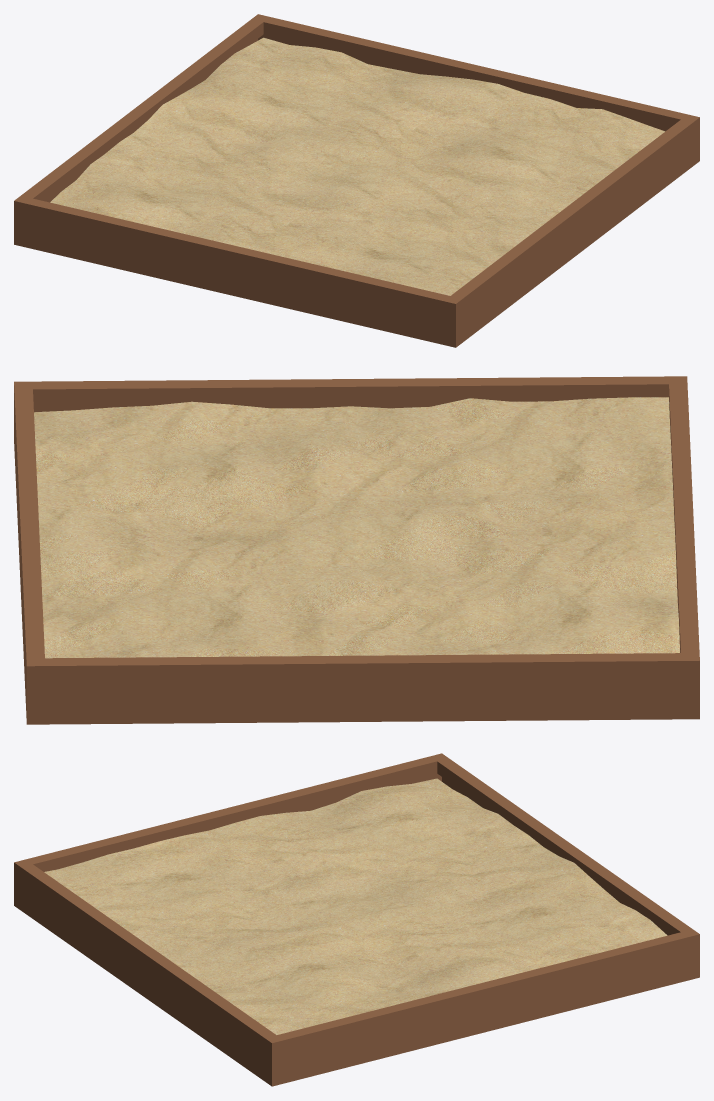
File: sandbox1.glb
3 renders of one model, top to bottom at view 1: azimuth 30°, elevation 25°; view 2: azimuth 150°, elevation 25°; view 3: azimuth 270°, elevation 25°, orthographic. The views are drawn at different scales.
Visible parts, largest first — view 1: sandbox1; view 2: sandbox1; view 3: sandbox1.
Boxes of the visible parts, x1,y1,x2,y2 form: sandbox1: (14, 14, 699, 347); sandbox1: (14, 376, 699, 724); sandbox1: (14, 753, 699, 1086).
Bounding box in the file's own units: 2.66 × 0.1858 × 2.66.
Materials: 2 (1 with a texture image).
